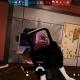Character: (45, 38, 47, 43)
Head: (45, 38, 46, 39)
